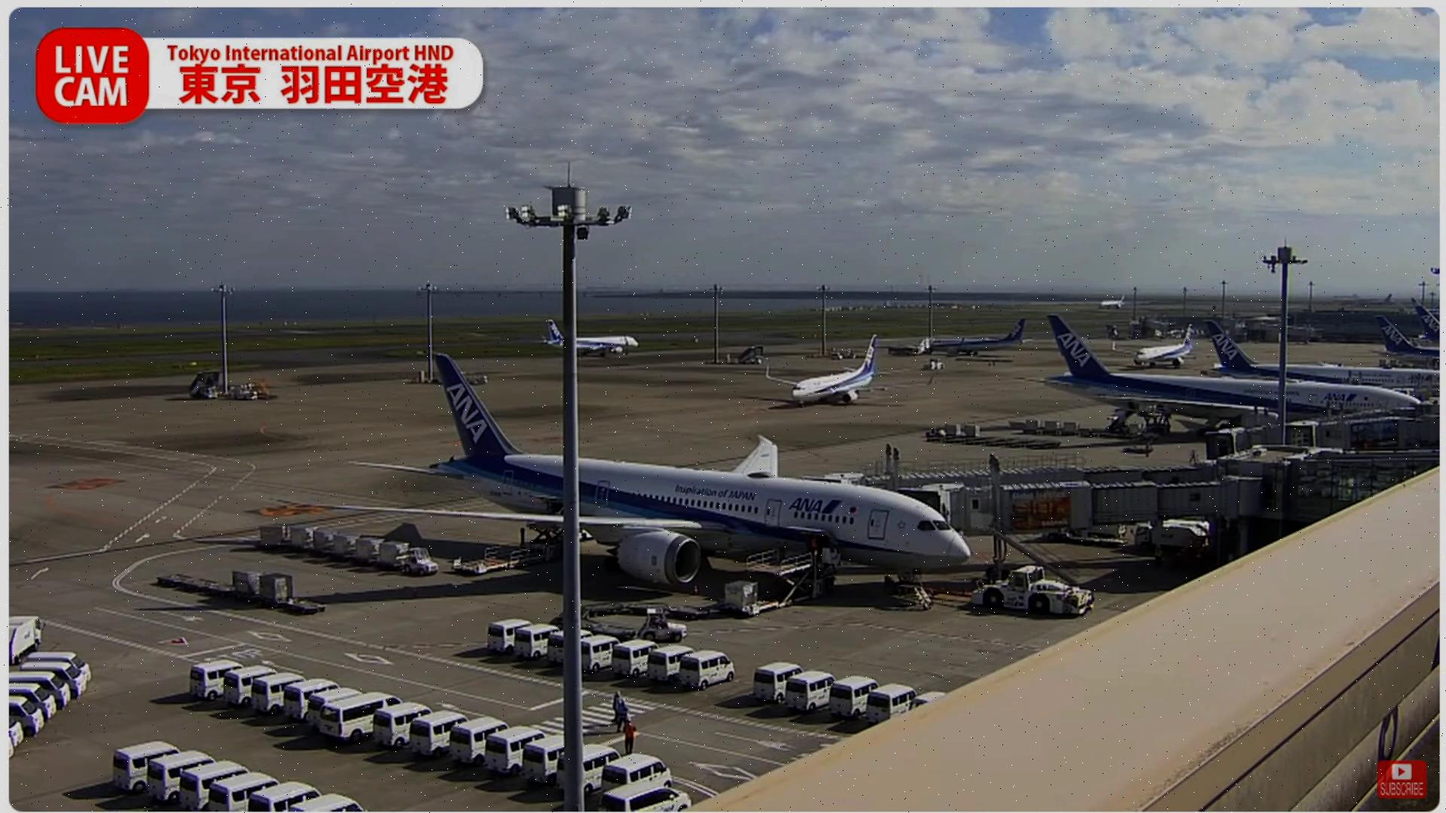APS: (969, 564, 1106, 619)
Aerobridge: (899, 476, 1264, 540), (843, 457, 1217, 496)
Airplane: (330, 354, 973, 599)
Dolly: (153, 566, 329, 616), (259, 522, 411, 570), (553, 599, 712, 639)
JCPL: (717, 553, 843, 617), (450, 522, 565, 575)
Tractor: (640, 604, 692, 642), (405, 545, 439, 577)
Window: (1290, 456, 1440, 523)
